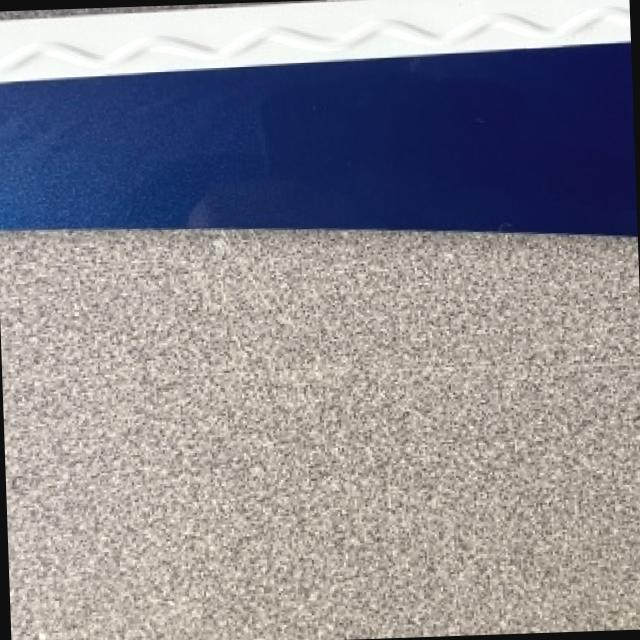healthy: (0, 0, 640, 640), (0, 0, 637, 230)
